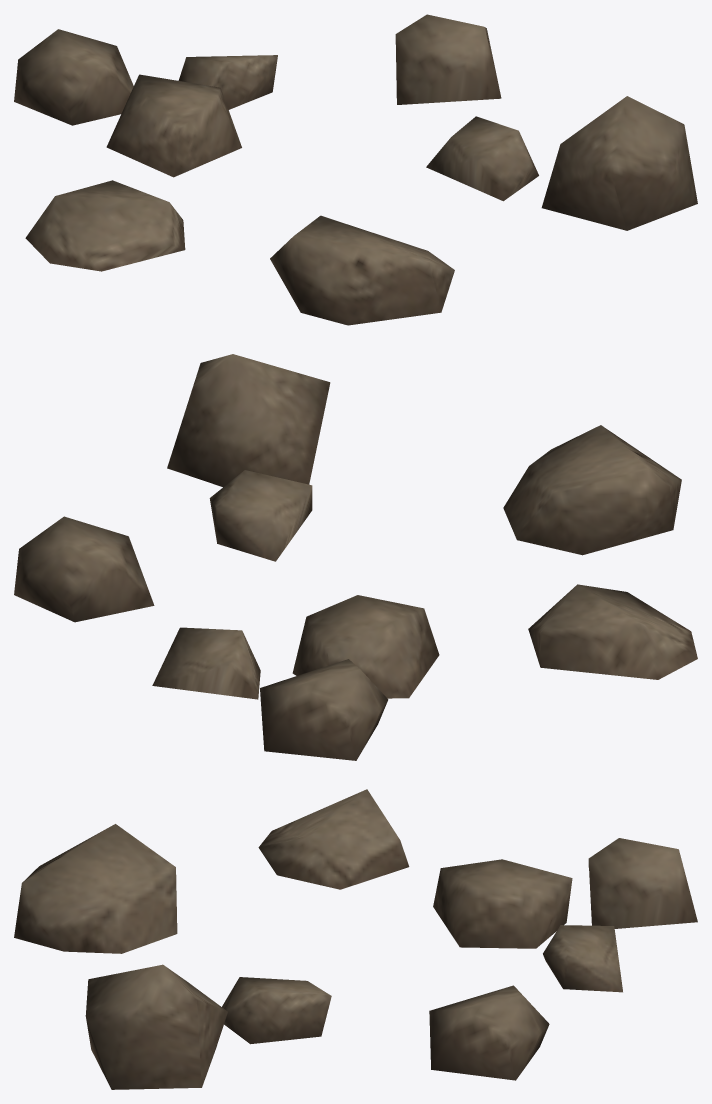
The model's file is shizi03.FBX.
The picture shows the model from 3 angles, top to bottom: view 1: azimuth 30°, elevation 25°; view 2: azimuth 150°, elevation 25°; view 3: azimuth 270°, elevation 25°; orthographic projection. The views are drawn at different scales.
Visible parts, largest first — view 1: polySurface1255; view 2: polySurface1255; view 3: polySurface1255.
Part boxes in pixels (left/top/right/bottom): polySurface1255: left=14, top=14, right=697, bottom=325; polySurface1255: left=14, top=354, right=697, bottom=760; polySurface1255: left=14, top=789, right=697, bottom=1089.
Bounding box in the file's own units: 16.8 × 2.98 × 17.85.
